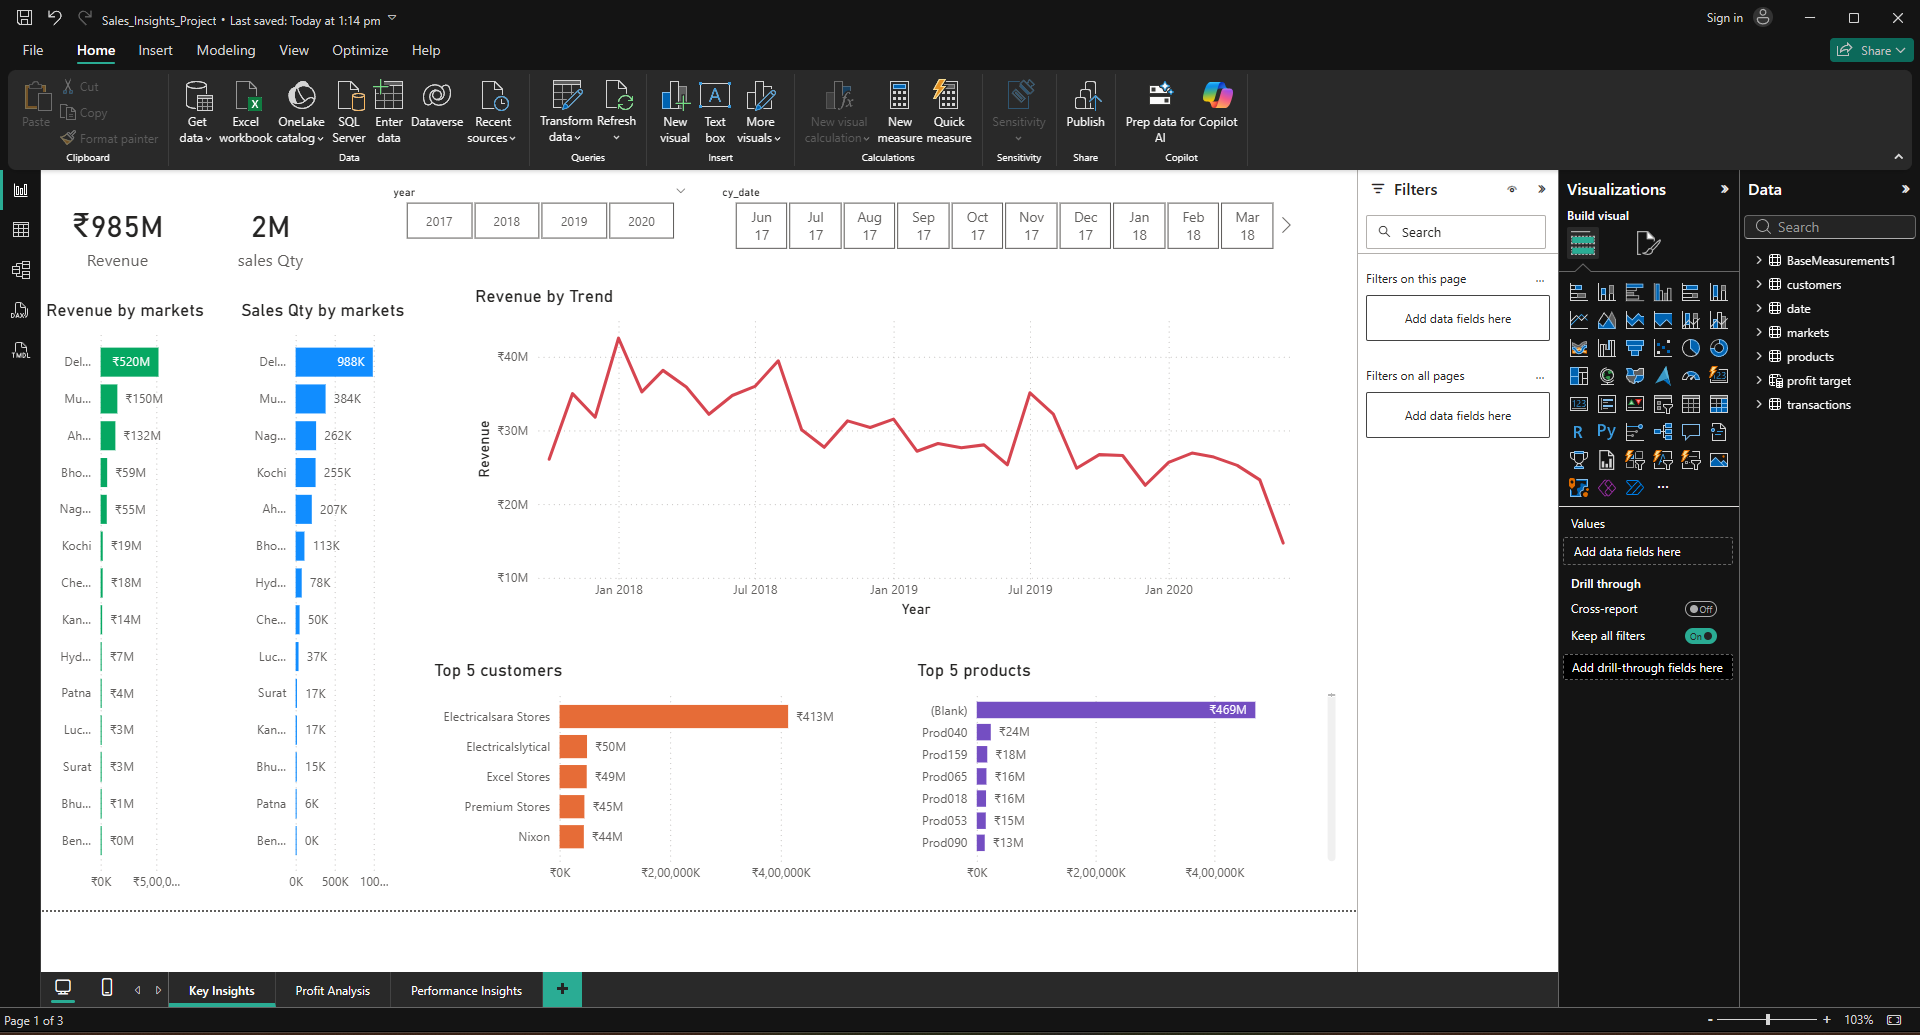

This screenshot's page, from the dashboard's own definition file:
{"tool":"powerbi","page":{"name":"Key Insights","canvas":[1280,720],"ordinal":0},"visuals":[{"type":"card","fields":{"Values":["BaseMeasurements1.Revenue"]},"box":[0,0,148.8,126.4],"z":0},{"type":"card","fields":{"Values":["BaseMeasurements1.sales Qty"]},"box":[148.8,0,148.8,126.4],"z":1000},{"type":"barChart","title":"Revenue by markets","fields":{"Y":["BaseMeasurements1.Revenue"],"Category":["markets.markets_name"]},"box":[0,126.4,180.9,583.6],"z":2000},{"type":"barChart","title":"Sales Qty by markets","fields":{"Y":["BaseMeasurements1.sales Qty"],"Category":["markets.markets_name"]},"box":[189.7,126.4,180.9,583.6],"z":3000},{"type":"slicer","fields":{"Values":["date.year"]},"box":[329.7,10.7,310.3,63.2],"z":4000},{"type":"slicer","fields":{"Values":["date.cy_date"]},"box":[649.7,10.7,572.9,72.9],"z":5000},{"type":"barChart","title":"Top 5 customers","fields":{"Y":["BaseMeasurements1.Revenue"],"Category":["customers.custmer_name"]},"box":[377.4,476.6,435.7,224.7],"z":6000},{"type":"barChart","title":"Top 5 products","fields":{"Y":["BaseMeasurements1.Revenue"],"Category":["products.product_code"]},"box":[847.2,476.6,417.3,224.7],"z":7000},{"type":"lineChart","title":"Revenue by Trend","fields":{"Y":["BaseMeasurements1.Revenue"],"Category":["date.cy_date.Variation.Date Hierarchy.Year","date.cy_date.Variation.Date Hierarchy.Quarter","date.cy_date.Variation.Date Hierarchy.Month","date.cy_date.Variation.Date Hierarchy.Day"]},"box":[417.3,112.8,819.9,326.8],"z":8000}]}

Visuals, with their boxes on the page's 1280x720 design canvas (x1, y1, x2, y2). These are canvas units, not pixel positions in the 1920x1035 screenshot, which may show the page scaled, cropped or inside an application window:
card - BaseMeasurements1.Revenue: [x1=0, y1=0, x2=149, y2=126]
card - BaseMeasurements1.sales Qty: [x1=149, y1=0, x2=298, y2=126]
"Revenue by markets" barChart: [x1=0, y1=126, x2=181, y2=710]
"Sales Qty by markets" barChart: [x1=190, y1=126, x2=371, y2=710]
slicer - date.year: [x1=330, y1=11, x2=640, y2=74]
slicer - date.cy_date: [x1=650, y1=11, x2=1223, y2=84]
"Top 5 customers" barChart: [x1=377, y1=477, x2=813, y2=701]
"Top 5 products" barChart: [x1=847, y1=477, x2=1264, y2=701]
"Revenue by Trend" lineChart: [x1=417, y1=113, x2=1237, y2=440]
